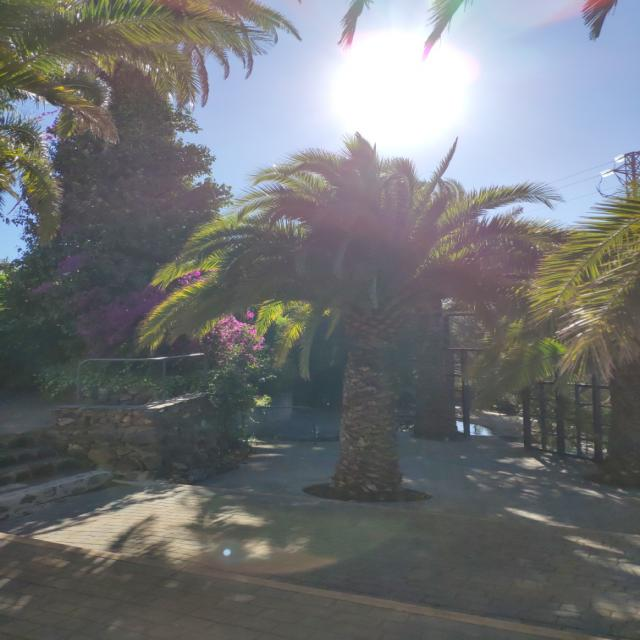Palm-Trees: (145, 135, 600, 501)
